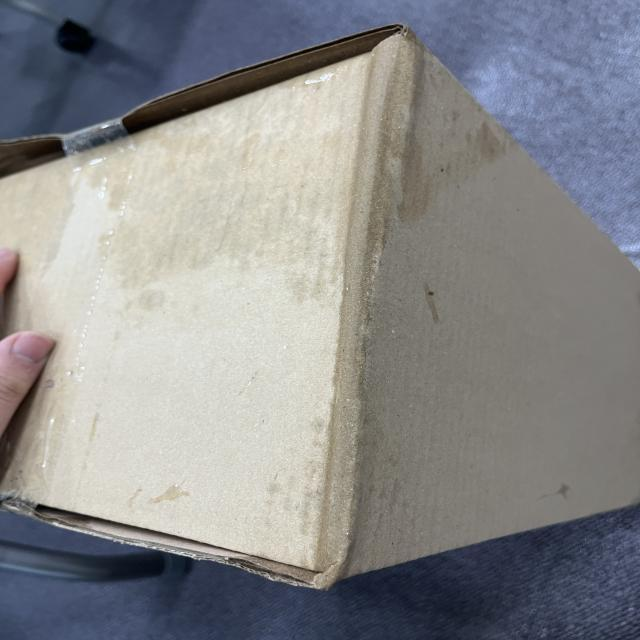wet: (88, 74, 466, 314)
